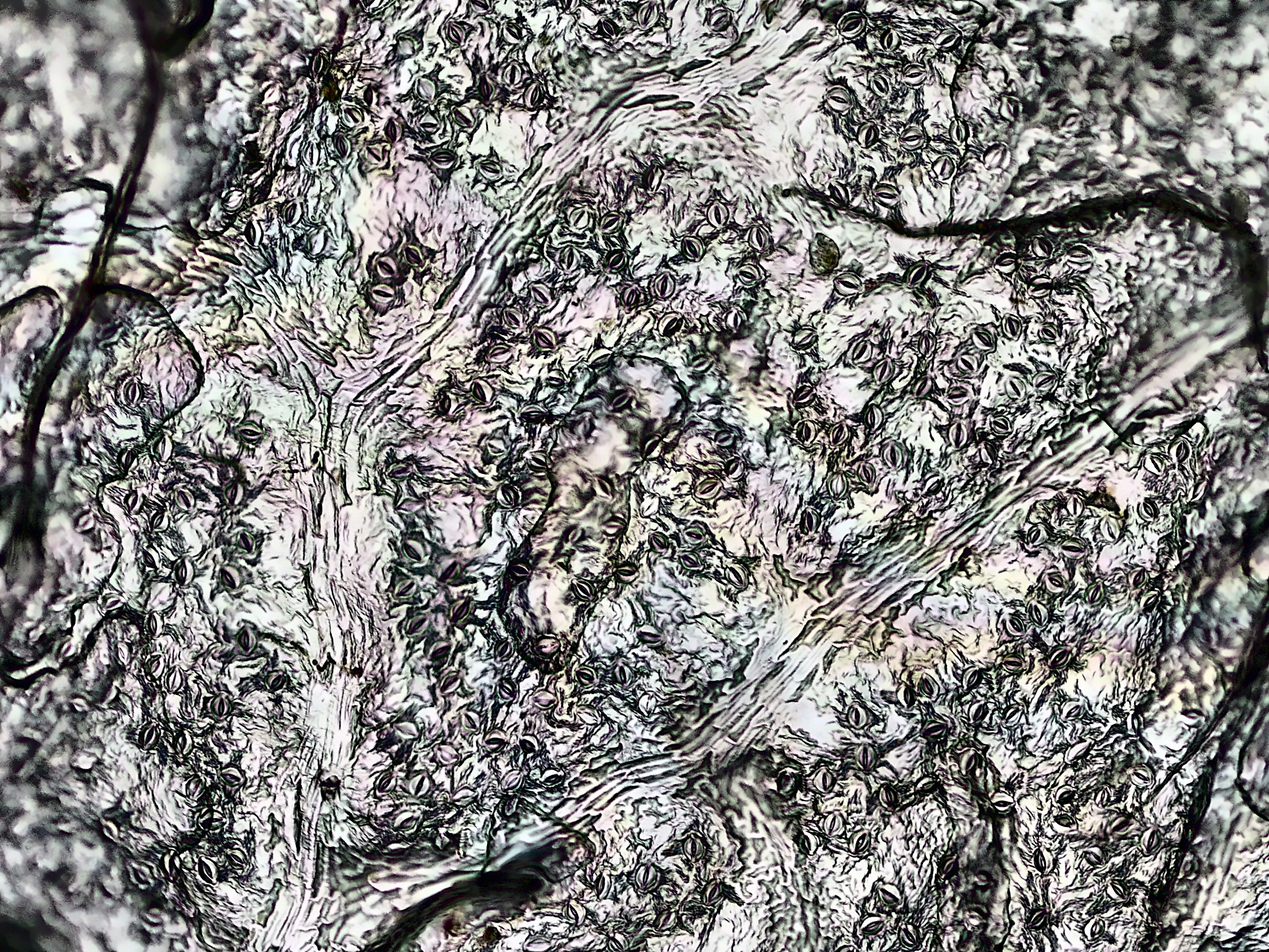stomata: (125, 859, 155, 890), (1063, 736, 1095, 765), (833, 272, 864, 297), (305, 226, 329, 258), (839, 12, 866, 40), (824, 87, 853, 113), (724, 562, 749, 592), (530, 635, 561, 659), (904, 260, 929, 289), (871, 183, 900, 208), (159, 849, 182, 880), (855, 741, 877, 773), (523, 79, 544, 112), (683, 833, 706, 863), (558, 244, 581, 274), (1026, 274, 1053, 299), (469, 378, 494, 405), (898, 125, 925, 150), (855, 119, 879, 147), (121, 378, 144, 407), (197, 808, 226, 831), (933, 29, 962, 52), (637, 0, 659, 30), (826, 470, 848, 500), (173, 726, 194, 757), (571, 577, 597, 602), (476, 159, 503, 183), (656, 311, 683, 335), (602, 249, 629, 273), (791, 327, 818, 351), (898, 921, 921, 949), (1000, 313, 1023, 341), (872, 357, 895, 385), (525, 450, 553, 473), (137, 721, 159, 750), (707, 199, 729, 228), (993, 252, 1022, 274), (198, 855, 219, 885), (375, 255, 400, 280), (483, 728, 508, 753), (1046, 644, 1072, 668), (613, 561, 639, 585), (640, 434, 664, 460), (681, 236, 705, 262), (982, 144, 1006, 170), (237, 420, 264, 443), (1098, 515, 1121, 542), (496, 482, 519, 509), (910, 373, 933, 400), (430, 147, 458, 169), (369, 282, 397, 304), (164, 664, 186, 692), (1139, 826, 1161, 854), (694, 478, 722, 500), (800, 507, 821, 536), (313, 47, 332, 79), (175, 556, 195, 586), (812, 768, 836, 793), (883, 440, 903, 470), (1003, 375, 1027, 400), (722, 308, 746, 333), (931, 155, 955, 180), (451, 785, 477, 808), (847, 828, 870, 854), (505, 559, 531, 582), (598, 211, 624, 234), (736, 263, 762, 286), (210, 693, 232, 720), (576, 704, 603, 726), (392, 810, 419, 832), (748, 224, 770, 251), (828, 180, 850, 207), (154, 434, 173, 465), (100, 817, 121, 845), (863, 403, 884, 431), (829, 419, 850, 447), (1168, 436, 1189, 464), (283, 198, 303, 227), (1066, 244, 1095, 264), (221, 189, 246, 212), (791, 385, 816, 408), (116, 446, 138, 472), (185, 775, 207, 801), (701, 878, 723, 904), (1060, 537, 1086, 559), (969, 329, 995, 351), (608, 389, 634, 411), (697, 399, 723, 421), (593, 870, 612, 900), (502, 60, 523, 87), (1058, 697, 1085, 718), (1084, 580, 1105, 607), (796, 419, 817, 446), (944, 385, 971, 406), (586, 346, 613, 367), (654, 272, 675, 299), (919, 672, 939, 700), (500, 769, 524, 792), (1001, 702, 1024, 726), (679, 549, 703, 572), (438, 558, 461, 582), (392, 721, 421, 740), (1034, 847, 1053, 876), (220, 564, 242, 589), (634, 864, 656, 889), (601, 515, 626, 537), (123, 489, 144, 515), (797, 830, 818, 856), (847, 704, 868, 730), (967, 699, 988, 725), (949, 119, 970, 145), (301, 139, 319, 169), (224, 480, 244, 507), (654, 908, 677, 931), (1105, 879, 1128, 902), (1083, 845, 1106, 868), (529, 283, 552, 306), (340, 104, 364, 126), (877, 883, 901, 905), (1004, 615, 1026, 639), (545, 368, 569, 390), (591, 475, 613, 499), (568, 206, 590, 230), (903, 64, 927, 86), (236, 529, 257, 554), (1084, 916, 1105, 941), (639, 492, 660, 517), (879, 783, 897, 812), (896, 679, 914, 708), (416, 76, 436, 102), (532, 689, 558, 709), (635, 625, 661, 645), (238, 627, 257, 654), (145, 654, 164, 681), (824, 810, 843, 837), (1051, 814, 1078, 833), (1029, 600, 1048, 627), (948, 422, 967, 449), (917, 330, 936, 357), (452, 106, 475, 128), (500, 22, 522, 45), (647, 531, 670, 553), (1143, 453, 1165, 476), (955, 353, 978, 375), (225, 848, 249, 869), (409, 772, 430, 796), (990, 791, 1014, 812), (1129, 766, 1153, 787), (961, 665, 982, 689), (1127, 566, 1148, 590), (682, 525, 706, 546), (1038, 321, 1059, 345), (852, 340, 873, 364), (445, 21, 465, 46), (637, 692, 657, 717), (449, 597, 469, 622), (245, 220, 264, 246), (143, 545, 162, 571), (219, 767, 245, 786), (1065, 492, 1084, 518), (519, 405, 546, 423), (418, 112, 440, 134), (402, 538, 424, 560), (437, 743, 460, 764), (724, 457, 745, 480), (497, 677, 517, 701), (1002, 653, 1026, 673), (1032, 371, 1056, 391), (494, 637, 514, 661), (406, 614, 430, 634), (620, 285, 640, 309), (881, 29, 901, 53), (922, 719, 947, 738), (487, 344, 512, 363), (567, 898, 585, 924), (75, 510, 96, 532), (1137, 499, 1158, 521), (440, 670, 461, 692), (1031, 237, 1052, 259), (614, 663, 634, 686), (386, 117, 403, 144), (958, 748, 975, 775), (1126, 710, 1143, 737), (940, 855, 959, 879), (989, 416, 1013, 435), (915, 775, 940, 793), (523, 936, 551, 952), (1045, 572, 1066, 593), (404, 244, 424, 266), (175, 488, 195, 510), (265, 670, 287, 690), (861, 915, 883, 935), (1027, 523, 1047, 545), (503, 307, 523, 329), (868, 73, 888, 95), (597, 19, 620, 38), (477, 74, 493, 101), (979, 440, 997, 464), (688, 355, 712, 373), (461, 710, 481, 731), (377, 772, 397, 793), (486, 436, 507, 456), (1054, 784, 1076, 803), (923, 474, 942, 496), (115, 642, 133, 665), (429, 641, 452, 659), (148, 610, 163, 637), (857, 462, 875, 484), (714, 430, 736, 448), (540, 769, 563, 786), (575, 667, 595, 686), (519, 734, 539, 753), (1029, 909, 1047, 930), (395, 578, 416, 596), (564, 525, 586, 542), (1095, 785, 1111, 808), (336, 133, 350, 158), (152, 512, 169, 532), (364, 85, 380, 106), (388, 464, 413, 477), (1140, 591, 1158, 609), (534, 331, 554, 347), (364, 146, 382, 163)
